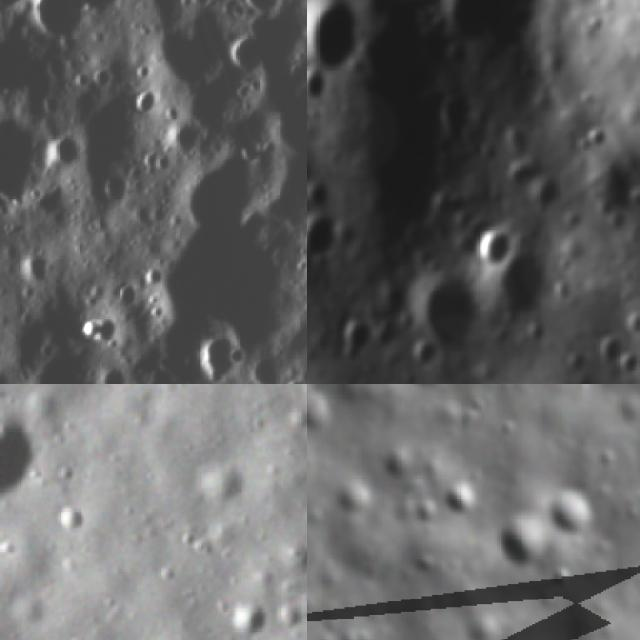crater: (126, 198, 307, 384), (156, 133, 285, 245), (0, 102, 78, 238), (0, 2, 79, 128), (479, 501, 563, 584), (0, 385, 52, 511), (493, 245, 560, 333), (532, 473, 605, 551), (177, 312, 255, 384), (187, 446, 256, 526), (414, 272, 478, 348), (443, 0, 546, 46), (0, 234, 63, 307), (307, 0, 366, 76), (15, 0, 92, 51), (214, 20, 272, 86), (437, 469, 492, 532), (216, 592, 273, 640), (41, 129, 85, 178), (334, 316, 376, 367), (307, 212, 345, 268), (238, 344, 291, 384), (402, 334, 444, 379), (75, 356, 140, 384), (61, 0, 127, 27), (475, 225, 517, 267), (230, 0, 290, 29), (396, 384, 465, 409), (588, 332, 628, 372), (525, 177, 564, 218), (128, 82, 168, 120), (0, 0, 46, 29), (307, 69, 330, 114), (307, 181, 333, 215), (620, 306, 640, 340), (385, 0, 430, 12)
